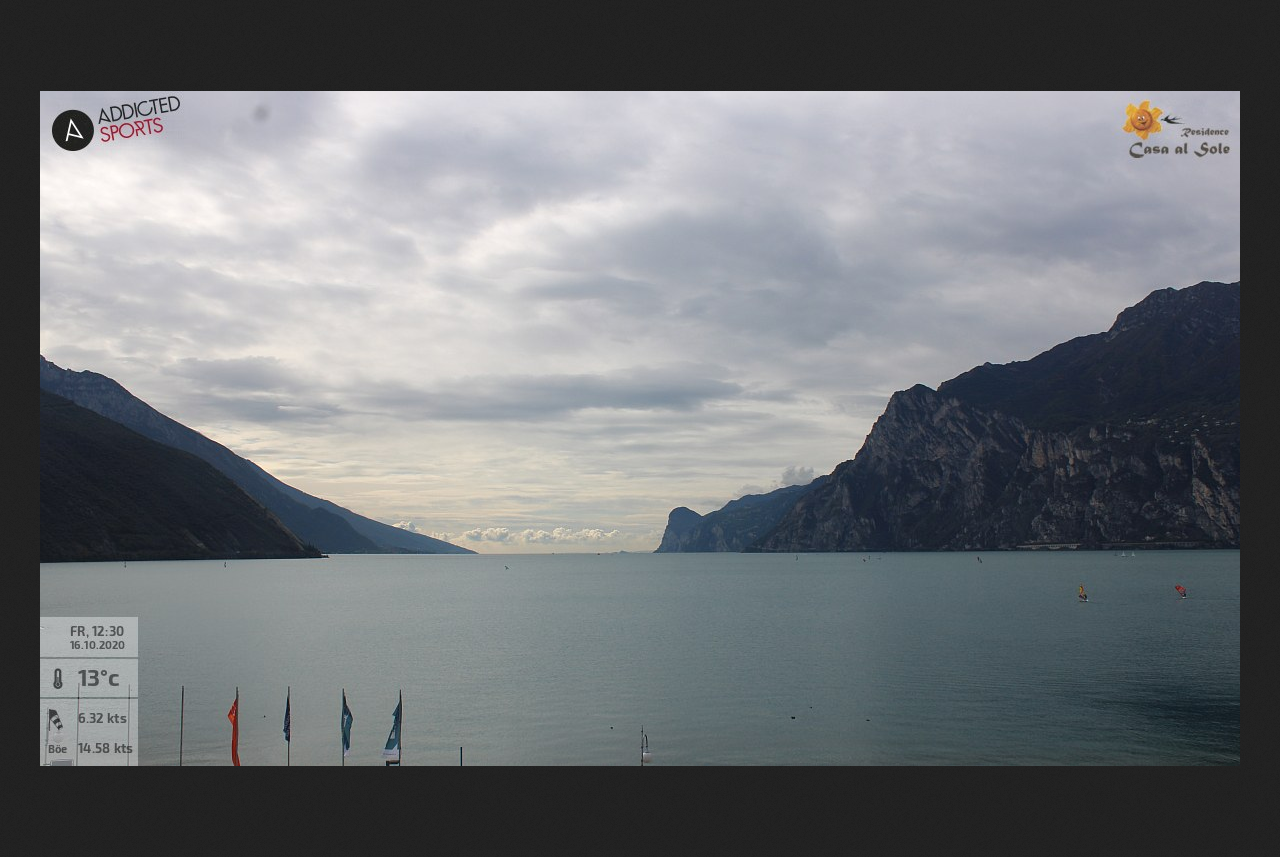no: (280, 692, 296, 741)
